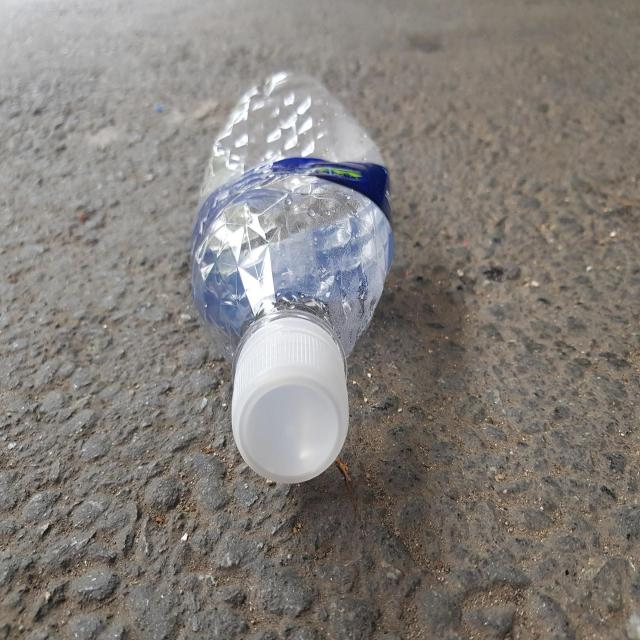plastic: (191, 71, 394, 483)
